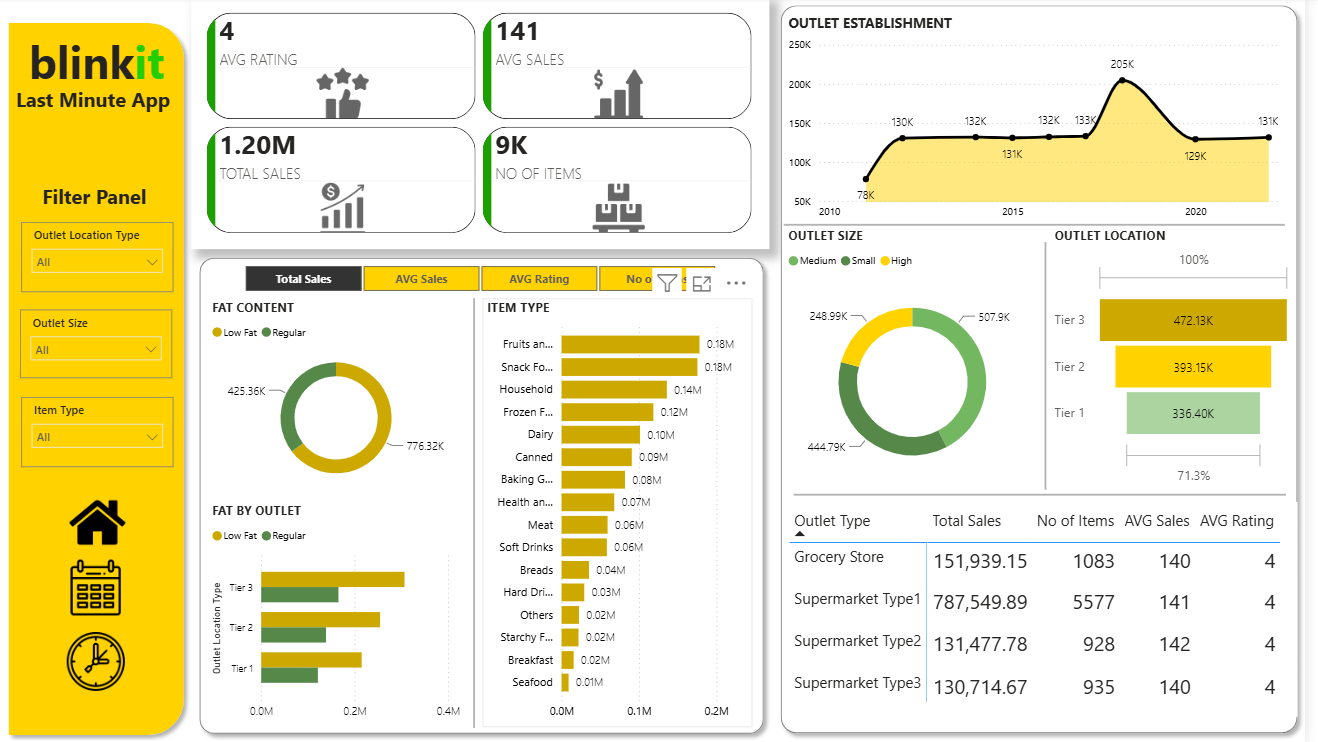

What the dashboard file says about the page in this screenshot:
{"tool":"powerbi","page":{"name":"BlinkIT Report","canvas":[1400,800],"ordinal":0},"visuals":[{"type":"shape","box":[0,18.5,206.2,781.5],"z":0},{"type":"textbox","box":[21.5,30.8,164.6,80],"z":1000},{"type":"textbox","box":[12.3,89.2,184.6,46.2],"z":2000},{"type":"cardVisual","fields":{"Data":["Dax-lar.AVG Rating","Dax-lar.AVG Sales","Dax-lar.Total Sales","Dax-lar.No of Items"]},"box":[205.6,0,619.9,270.2],"z":3000},{"type":"shape","box":[205.6,270.2,622.9,528.3],"z":4000},{"type":"donutChart","title":"FAT CONTENT","fields":{"Category":["BlinkIT Grocery Data.Item Fat Content"],"Y":["Dax-lar.Total Sales"]},"box":[222.1,322.7,276.2,211.6],"z":5000},{"type":"slicer","fields":{"Values":["Metrics.Metrics"]},"box":[237.1,282.2,553.8,40.5],"z":6000},{"type":"clusteredBarChart","title":"FAT BY OUTLET","fields":{"Y":["Dax-lar.Total Sales"],"Category":["BlinkIT Grocery Data.Outlet Location Type"],"Series":["BlinkIT Grocery Data.Item Fat Content"]},"box":[222.1,541.8,276.2,241.6],"z":7000},{"type":"shape","box":[498.3,322.7,19.5,460.8],"z":8000},{"type":"barChart","title":"ITEM TYPE","fields":{"Y":["Dax-lar.Total Sales"],"Category":["BlinkIT Grocery Data.Item Type"]},"box":[517.8,322.7,289.7,460.8],"z":9000},{"type":"shape","box":[828.5,0,571.8,798.5],"z":10000},{"type":"lineChart","title":"OUTLET ESTABLISHMENT","fields":{"Category":["BlinkIT Grocery Data.Outlet Establishment Year"],"Y":["Dax-lar.Total Sales"]},"box":[840.5,18,537.3,229.6],"z":11000},{"type":"shape","box":[840.5,241.6,537.3,6],"z":12000},{"type":"donutChart","title":"OUTLET SIZE","fields":{"Y":["Dax-lar.Total Sales"],"Category":["BlinkIT Grocery Data.Outlet Size"]},"box":[840.5,246.1,276.2,286.7],"z":13000},{"type":"shape","box":[1116.6,262.7,9,265.7],"z":14000},{"type":"funnel","title":"OUTLET LOCATION","fields":{"Category":["BlinkIT Grocery Data.Outlet Location Type"],"Y":["Sum(BlinkIT Grocery Data.Sales)"]},"box":[1125.6,246.1,264.2,282.2],"z":15000},{"type":"shape","box":[850.8,526.2,527.7,13.8],"z":16000},{"type":"pivotTable","fields":{"Rows":["BlinkIT Grocery Data.Outlet Type"],"Values":["Dax-lar.Total Sales","Dax-lar.No of Items","Dax-lar.AVG Sales","Dax-lar.AVG Rating"]},"box":[841.5,541.5,549.2,230.8],"z":17000},{"type":"slicer","fields":{"Values":["BlinkIT Grocery Data.Outlet Location Type"]},"box":[23.1,241.5,163.1,75.4],"z":18000},{"type":"slicer","fields":{"Values":["BlinkIT Grocery Data.Outlet Size"]},"box":[21.5,335.4,163.1,73.8],"z":19000},{"type":"slicer","fields":{"Values":["BlinkIT Grocery Data.Item Type"]},"box":[23.1,429.2,163.1,75.4],"z":20000},{"type":"textbox","box":[40,193.8,127.7,47.7],"z":21000},{"type":"image","box":[66.2,533.8,76.9,60],"z":22000},{"type":"image","box":[63.1,603.1,78.5,60],"z":23000},{"type":"image","box":[64.6,681.5,76.9,63.1],"z":24000}]}

Visuals, with their boxes in screenshot pixels (x1, y1, x2, y2), scaled from the page's 1400x800 canvas onto the 1318x742 screenshot:
shape: <region>0, 17, 194, 741</region>
textbox: <region>20, 29, 175, 103</region>
textbox: <region>12, 83, 185, 126</region>
cardVisual - Dax-lar.AVG Rating x Dax-lar.AVG Sales: <region>194, 0, 777, 251</region>
shape: <region>194, 251, 780, 741</region>
"FAT CONTENT" donutChart: <region>209, 299, 469, 496</region>
slicer - Metrics.Metrics: <region>223, 262, 745, 299</region>
"FAT BY OUTLET" clusteredBarChart: <region>209, 503, 469, 727</region>
shape: <region>469, 299, 487, 727</region>
"ITEM TYPE" barChart: <region>487, 299, 760, 727</region>
shape: <region>780, 0, 1317, 741</region>
"OUTLET ESTABLISHMENT" lineChart: <region>791, 17, 1297, 230</region>
shape: <region>791, 224, 1297, 230</region>
"OUTLET SIZE" donutChart: <region>791, 228, 1051, 494</region>
shape: <region>1051, 244, 1060, 490</region>
"OUTLET LOCATION" funnel: <region>1060, 228, 1308, 490</region>
shape: <region>801, 488, 1298, 501</region>
pivotTable - BlinkIT Grocery Data.Outlet Type x Dax-lar.Total Sales: <region>792, 502, 1309, 716</region>
slicer - BlinkIT Grocery Data.Outlet Location Type: <region>22, 224, 175, 294</region>
slicer - BlinkIT Grocery Data.Outlet Size: <region>20, 311, 174, 380</region>
slicer - BlinkIT Grocery Data.Item Type: <region>22, 398, 175, 468</region>
textbox: <region>38, 180, 158, 224</region>
image: <region>62, 495, 135, 551</region>
image: <region>59, 559, 133, 615</region>
image: <region>61, 632, 133, 691</region>
